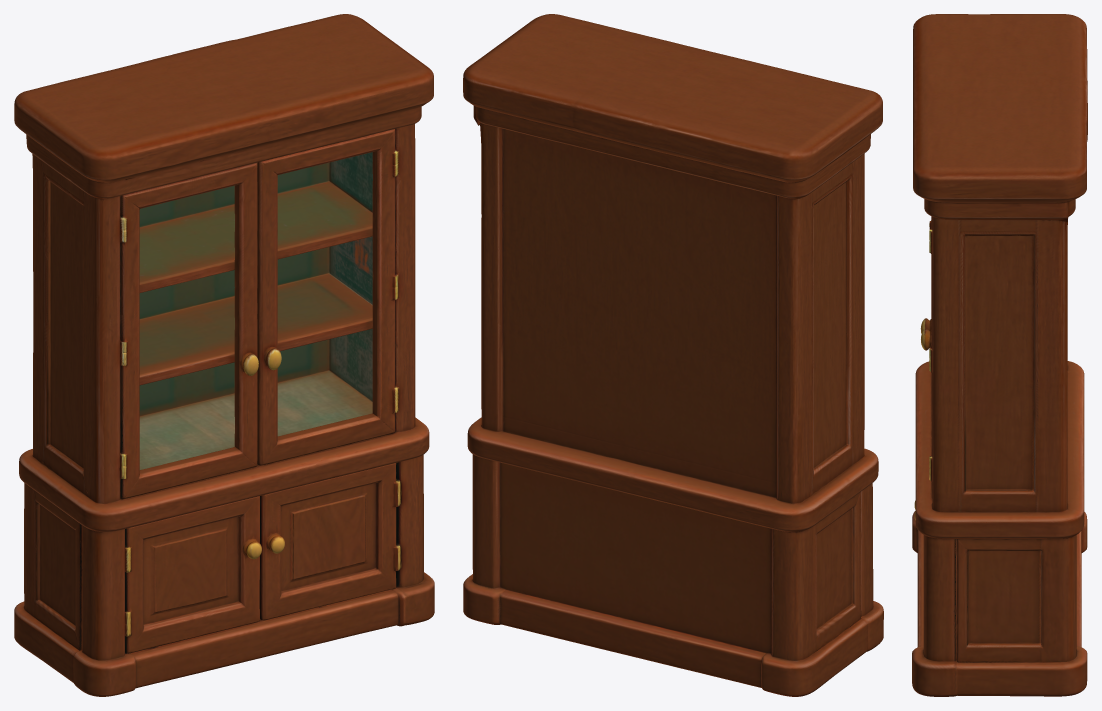
File: cabinet.glb
3 renders of one model, left to right at view 1: azimuth 30°, elevation 25°; view 2: azimuth 150°, elevation 25°; view 3: azimuth 270°, elevation 25°, orthographic. The views are drawn at different scales.
Visible parts, largest first — view 1: tripo_node_303c3f87-340f-4a8e-980a-2c5784e2b752; view 2: tripo_node_303c3f87-340f-4a8e-980a-2c5784e2b752; view 3: tripo_node_303c3f87-340f-4a8e-980a-2c5784e2b752.
Boxes of the visible parts, bbox=[...] form: tripo_node_303c3f87-340f-4a8e-980a-2c5784e2b752: bbox=[14, 14, 434, 696]; tripo_node_303c3f87-340f-4a8e-980a-2c5784e2b752: bbox=[463, 14, 883, 696]; tripo_node_303c3f87-340f-4a8e-980a-2c5784e2b752: bbox=[912, 14, 1087, 696].
Bounding box in the file's own units: 0.6548 × 0.9803 × 0.2973.
1 material, 1 textured.
